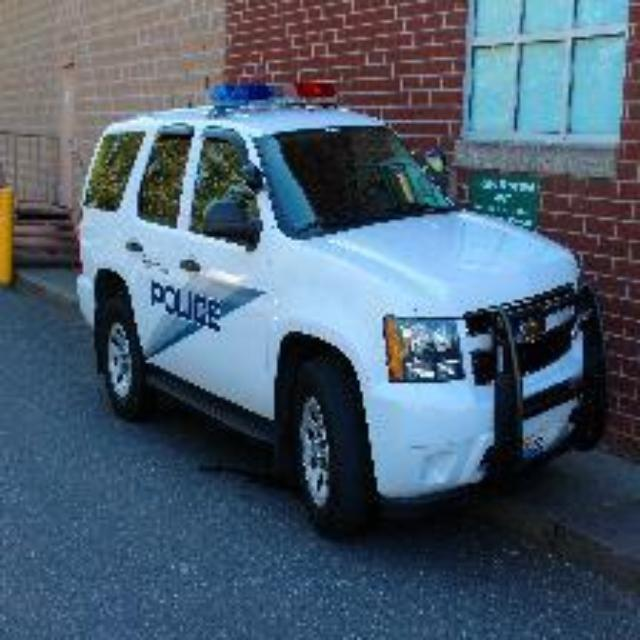emergency: (81, 69, 601, 537)
